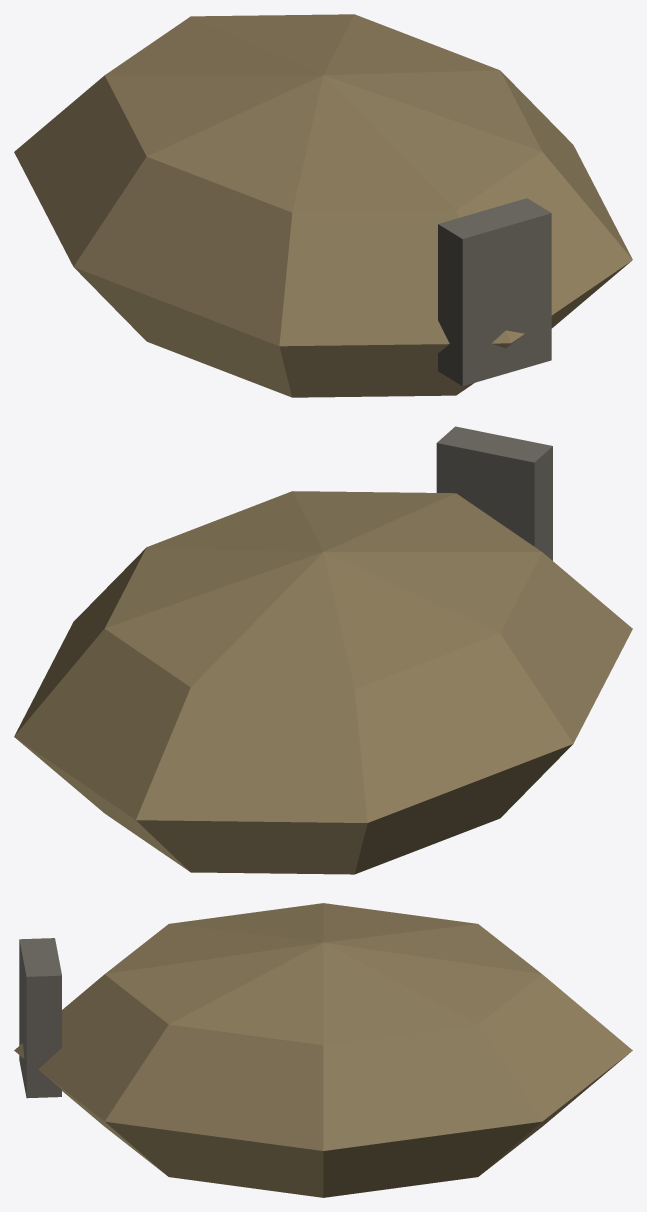
Rendered from cape_hutmyo.glb.
The picture shows the model from 3 angles, top to bottom: view 1: azimuth 30°, elevation 25°; view 2: azimuth 150°, elevation 25°; view 3: azimuth 270°, elevation 25°; orthographic projection. The views are drawn at different scales.
Parts seen in each view (by area): view 1: cape_hutmyo; view 2: cape_hutmyo; view 3: cape_hutmyo.
Boxes of the visible parts, box(x1,y1,x2,y2) form: cape_hutmyo: box(14, 14, 632, 397); cape_hutmyo: box(14, 426, 632, 874); cape_hutmyo: box(14, 903, 632, 1197).
Bounding box in the file's own units: 1.6 × 0.8 × 2.08.
